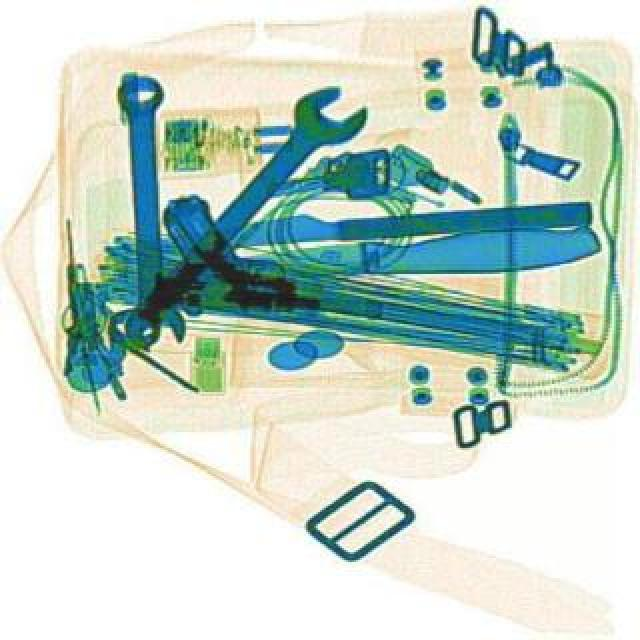gun: (146, 190, 390, 326)
knife: (122, 188, 588, 260), (162, 222, 598, 294)
scissors: (88, 72, 372, 364), (104, 72, 186, 352)
